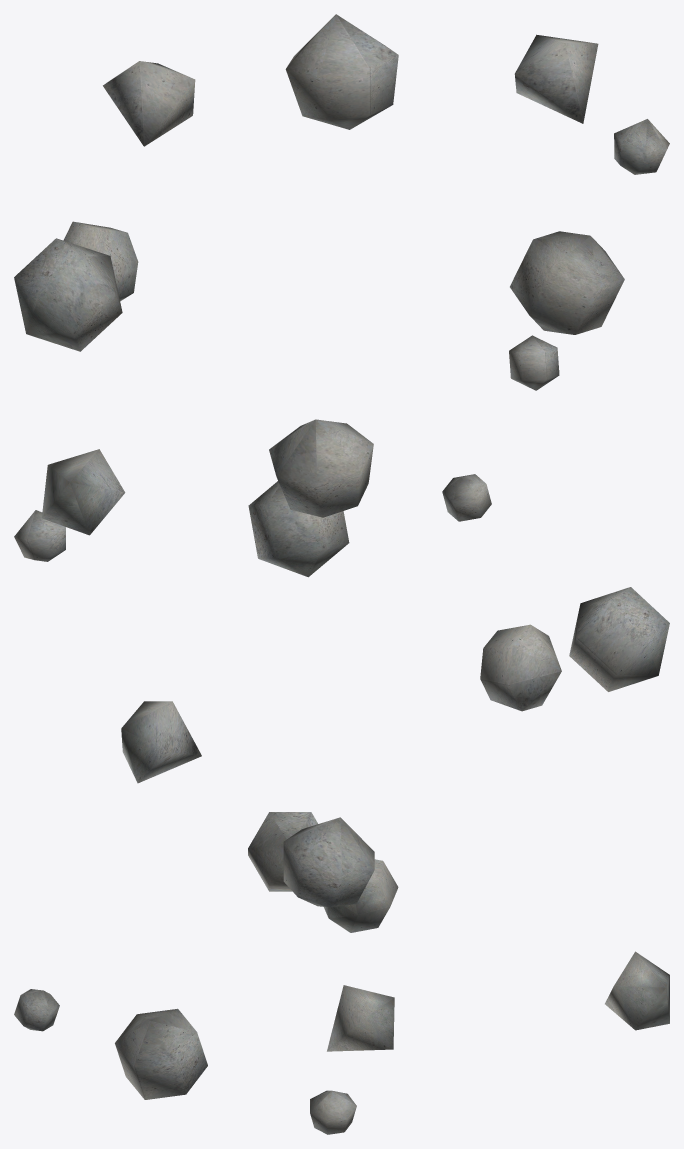
File: stone6.obj
3 renders of one model, top to bottom at view 1: azimuth 30°, elevation 25°; view 2: azimuth 150°, elevation 25°; view 3: azimuth 270°, elevation 25°, orthographic. The views are drawn at different scales.
Visible parts, largest first — view 1: Sphere005, Sphere001, Sphere008, Sphere003, Sphere007, Sphere004, Sphere006, Sphere002; view 2: Sphere005, Sphere001, Sphere008, Sphere004, Sphere003, Sphere007, Sphere006, Sphere002; view 3: Sphere005, Sphere008, Sphere003, Sphere007, Sphere001, Sphere004, Sphere006, Sphere002.
Boxes of the visible parts, bbox=[...] form: Sphere005: bbox=[285, 14, 398, 129]; Sphere001: bbox=[14, 238, 122, 351]; Sphere008: bbox=[510, 231, 624, 334]; Sphere003: bbox=[514, 34, 598, 123]; Sphere007: bbox=[103, 61, 195, 146]; Sphere004: bbox=[63, 221, 138, 301]; Sphere006: bbox=[614, 119, 669, 174]; Sphere002: bbox=[509, 335, 559, 390]; Sphere005: bbox=[269, 419, 373, 517]; Sphere001: bbox=[569, 587, 669, 691]; Sphere008: bbox=[248, 481, 349, 577]; Sphere004: bbox=[480, 624, 561, 711]; Sphere003: bbox=[42, 449, 125, 535]; Sphere007: bbox=[121, 701, 201, 783]; Sphere006: bbox=[14, 510, 65, 561]; Sphere002: bbox=[442, 474, 491, 521]; Sphere005: bbox=[283, 817, 374, 907]; Sphere008: bbox=[115, 1008, 207, 1099]; Sphere003: bbox=[327, 985, 394, 1051]; Sphere007: bbox=[605, 951, 669, 1030]; Sphere001: bbox=[248, 812, 317, 891]; Sphere004: bbox=[324, 859, 398, 932]; Sphere006: bbox=[310, 1090, 356, 1134]; Sphere002: bbox=[14, 989, 59, 1031].
Bounding box in the file's own units: 190 × 73.76 × 193.
1 material, 1 textured.
